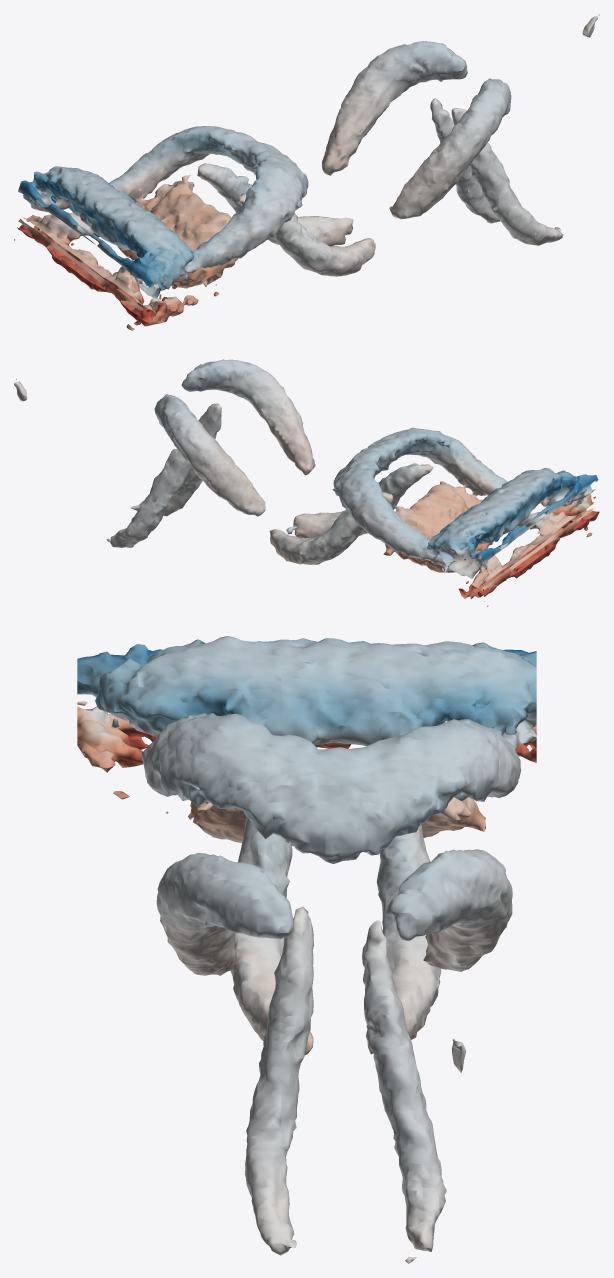
The model's file is q085-full.glb.
3 renders of one model, top to bottom at view 1: azimuth 30°, elevation 25°; view 2: azimuth 150°, elevation 25°; view 3: azimuth 270°, elevation 25°, orthographic. The views are drawn at different scales.
Bounding box in the file's own units: 6.32 × 2.06 × 2.54.
